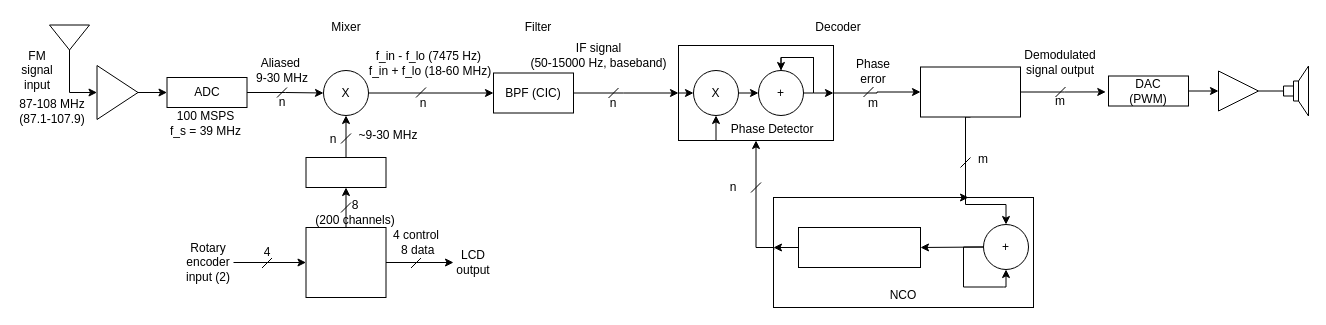
This 1326x325 diagram has some shape labels left out. The shapes that lost their labels are listed below. From the top down, each one's centre as x and y in pixels, then its label:
[117,92]: LNA
[970,91]: LPF Loop Filter
[345,172]: LO
[345,262]: CPU
[859,247]: LUT Sinusoid generator
